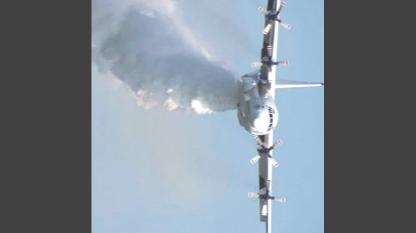Be200: (236, 0, 325, 232)
